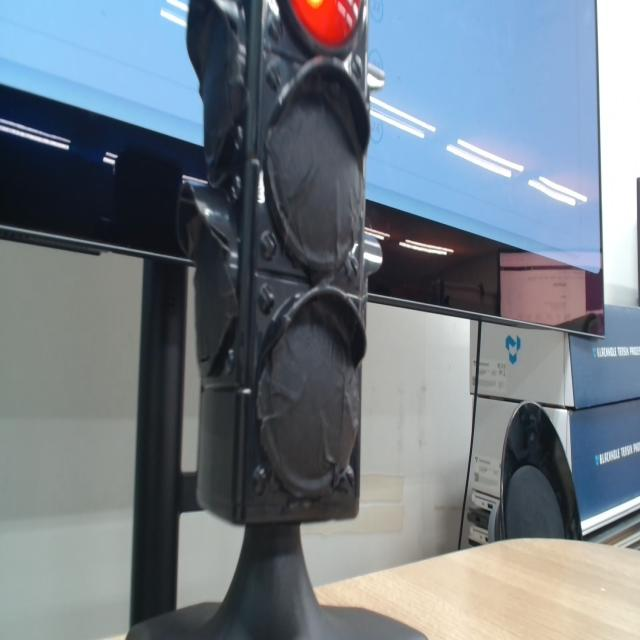red_light: (290, 0, 360, 48)
